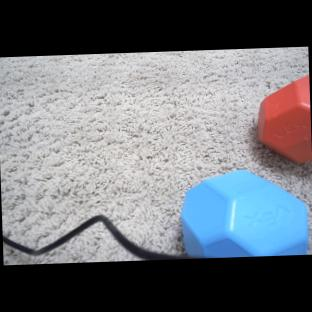V5_BLUE: (177, 167, 309, 260)
V5_RED: (253, 74, 312, 167)
